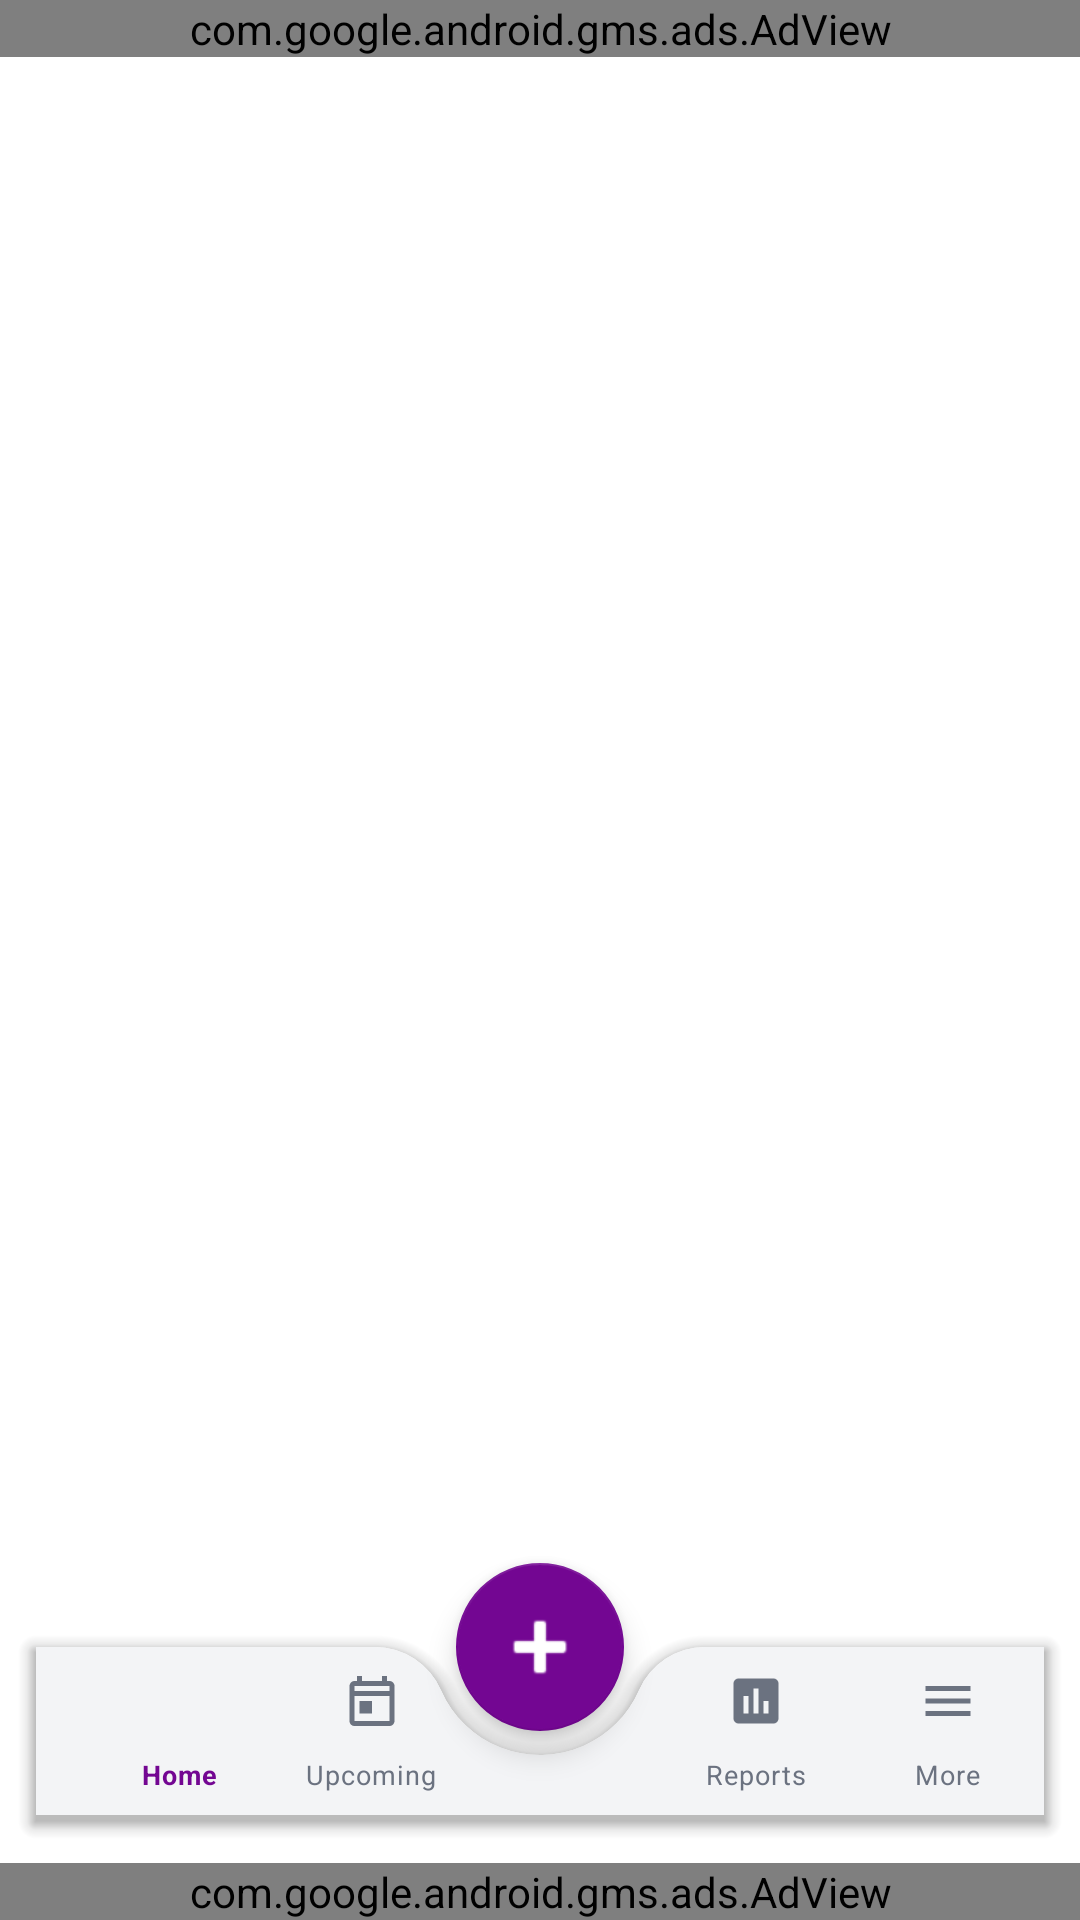

Icon bounding boxes for this 1080 × 1920 phone screenshot, format (x1, y1, x2, y2):
add: (456, 1563, 624, 1731)
